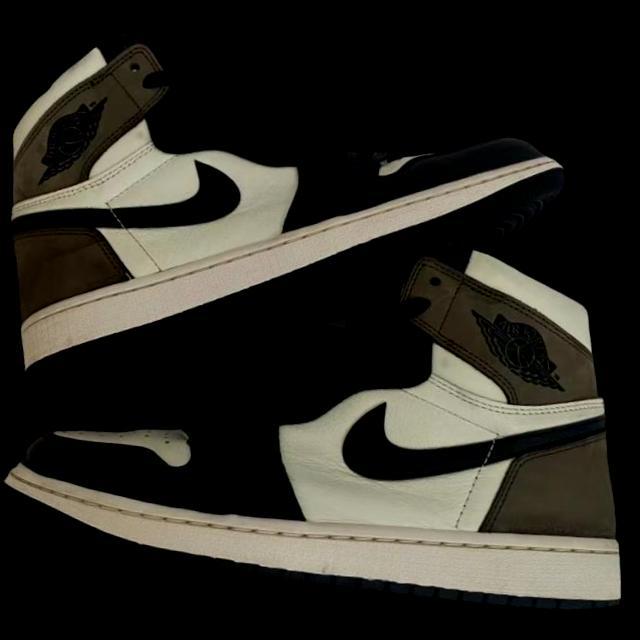nike_original_jordan: (0, 201, 640, 625), (0, 26, 588, 423)
